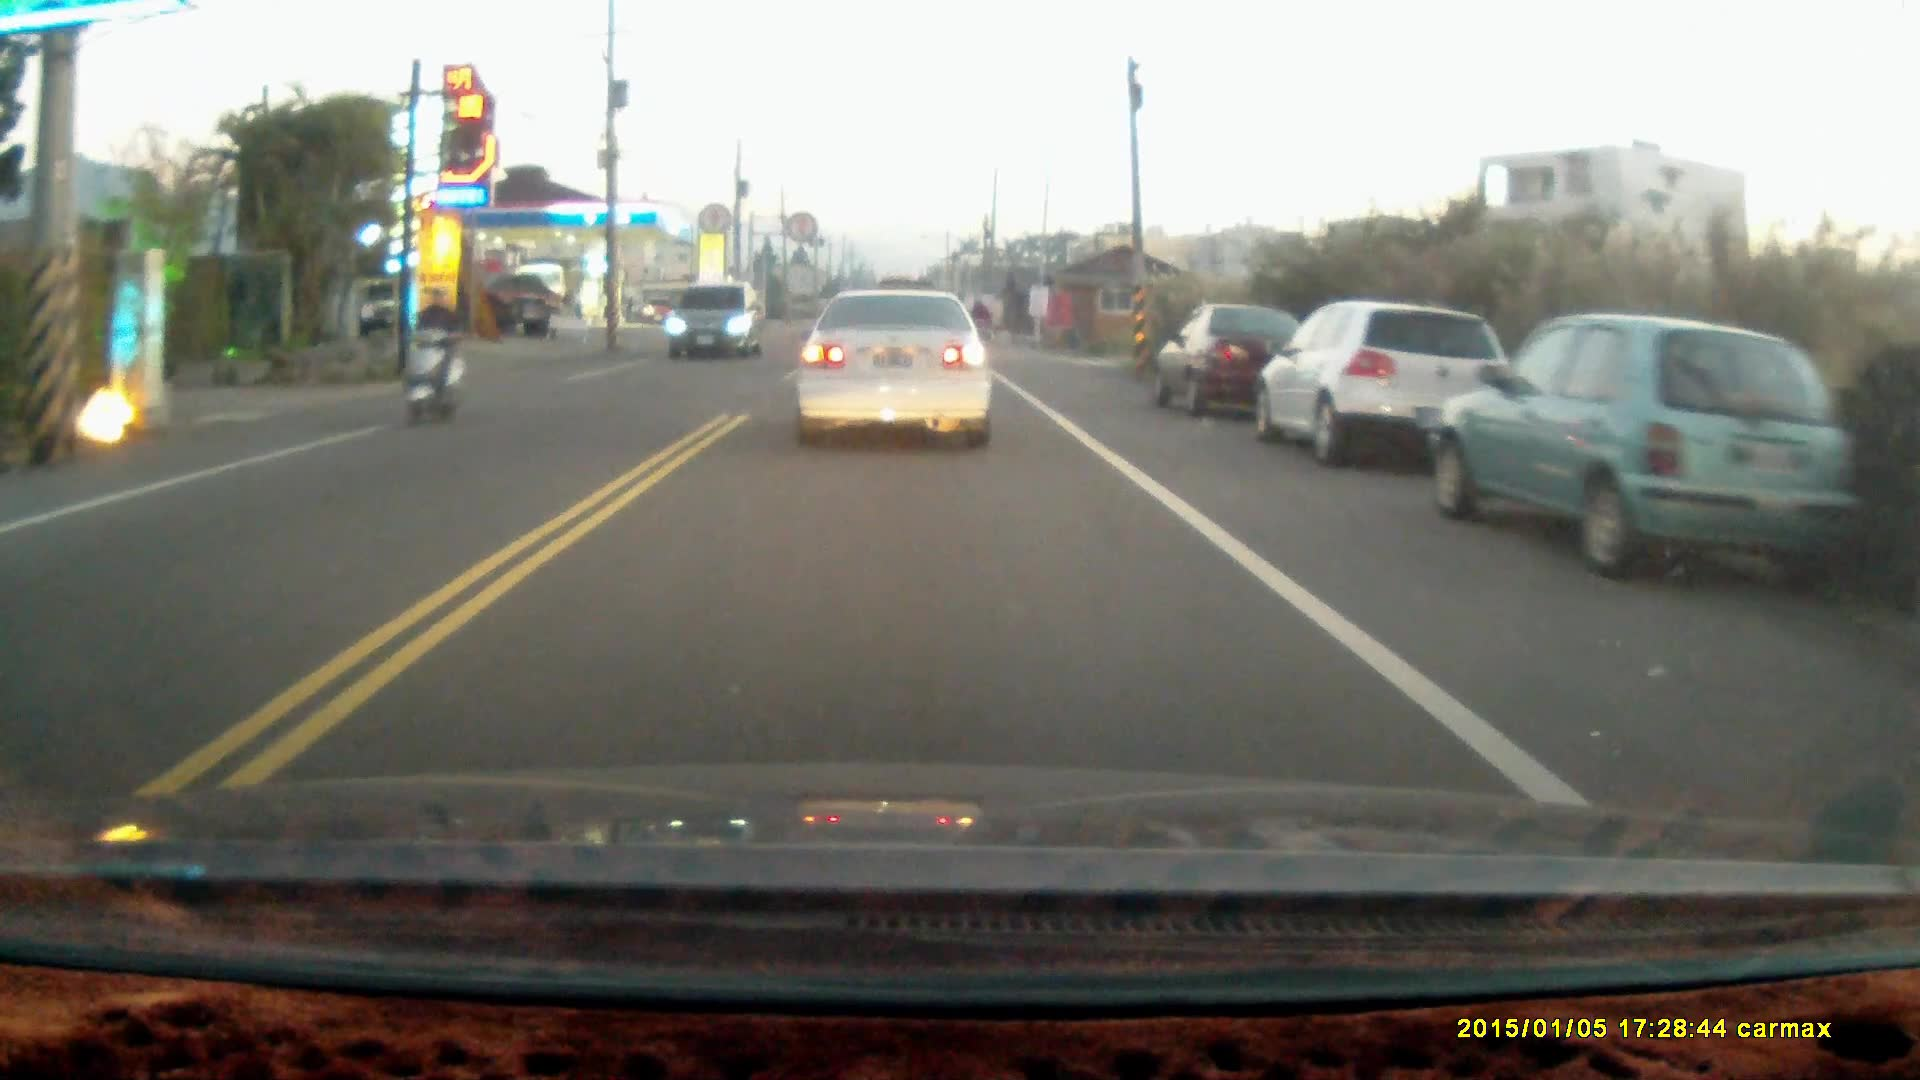rider: (394, 283, 464, 431)
vehicle: (1427, 320, 1846, 587), (1259, 304, 1509, 475), (793, 288, 996, 453), (1155, 309, 1313, 425), (663, 286, 764, 367)
